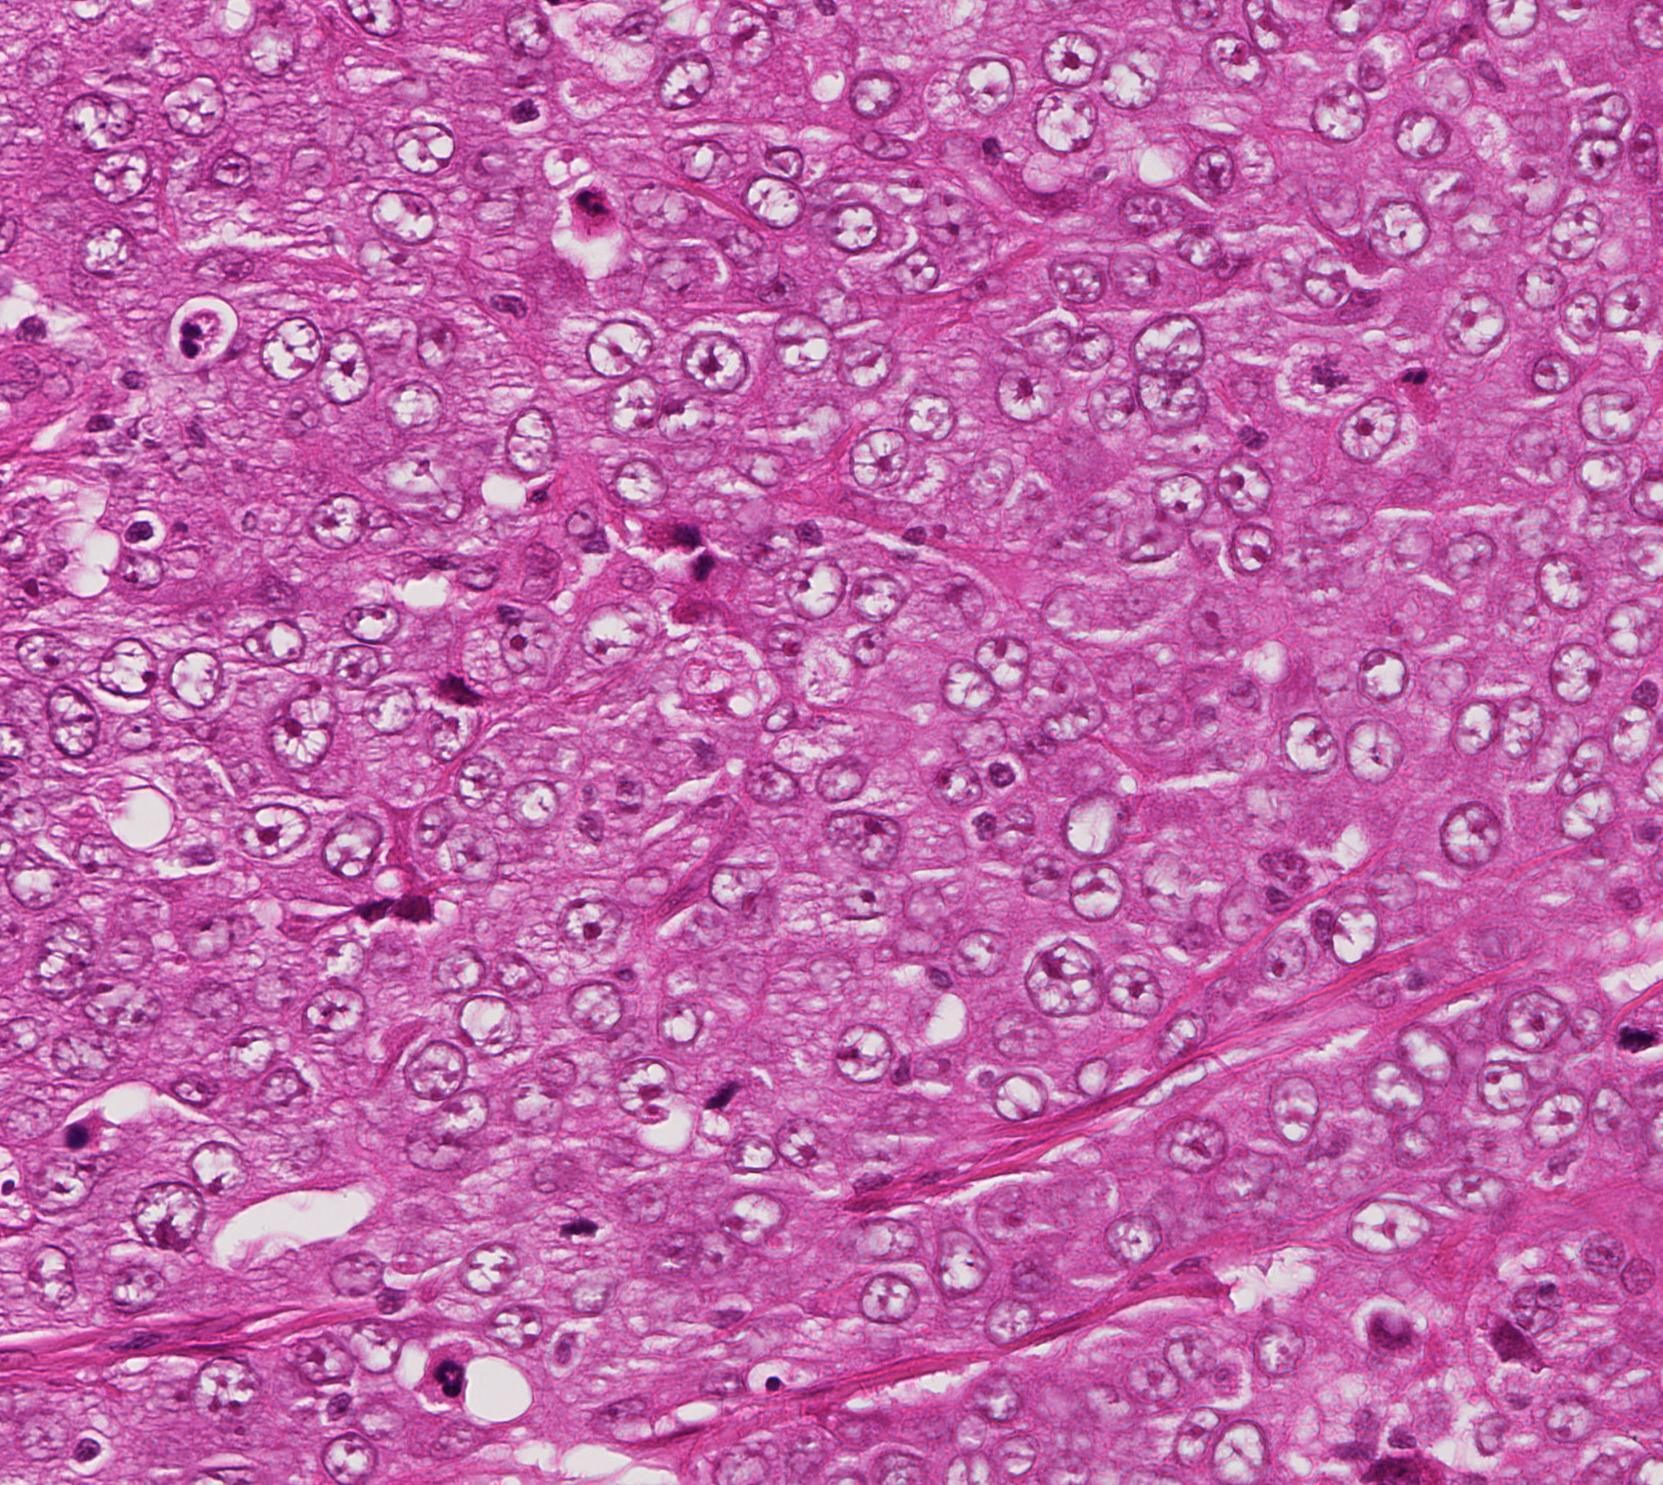mitosis: (1596, 1002, 1656, 1062), (552, 1200, 612, 1260), (694, 1064, 754, 1124), (1297, 345, 1358, 406)
